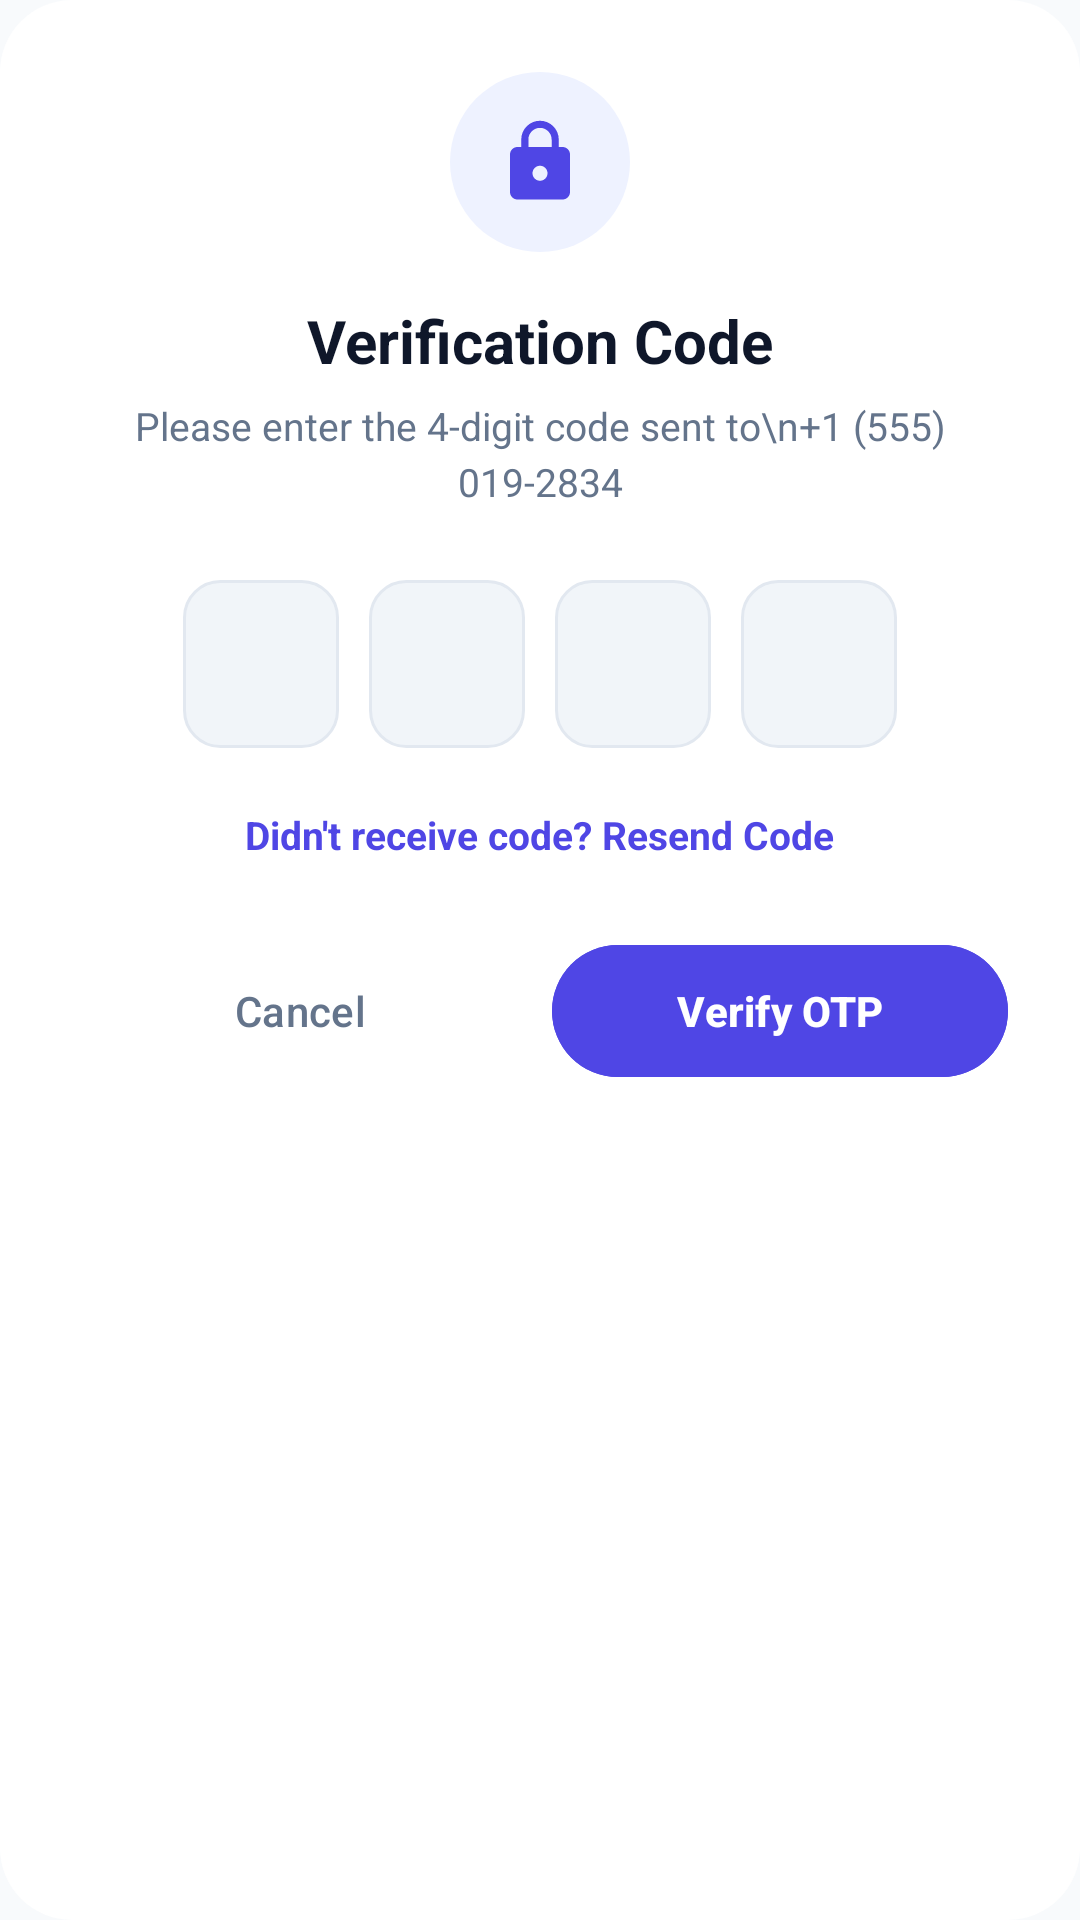

Icons on this 1080w x 1920h Android screen, each with its box as bbox=[x1, y1, x2, y2]:
OTP Lock: bbox=[510, 120, 570, 200]
